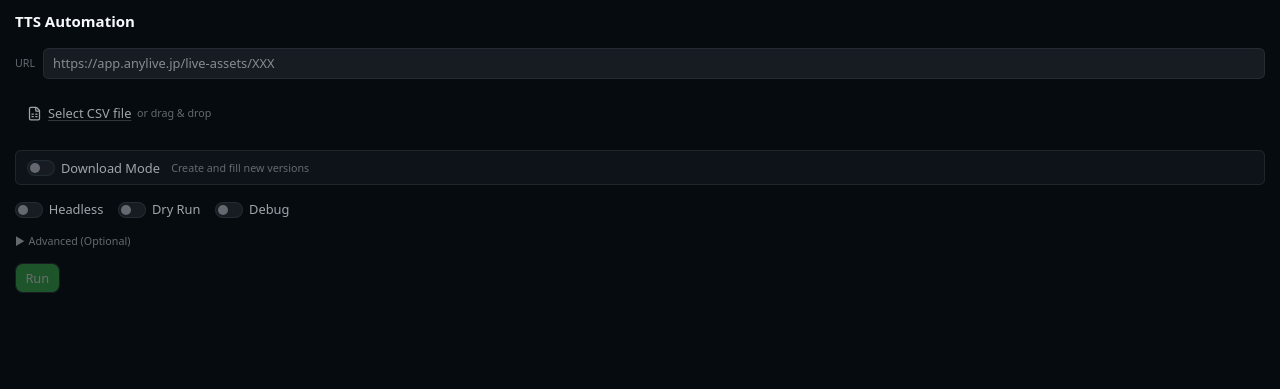
it: TTSPanel › toggle advanced shows and hides start-version and limit fields
Click the button with test id "toggle-advanced" at (73, 241), box [15,234,130,248]
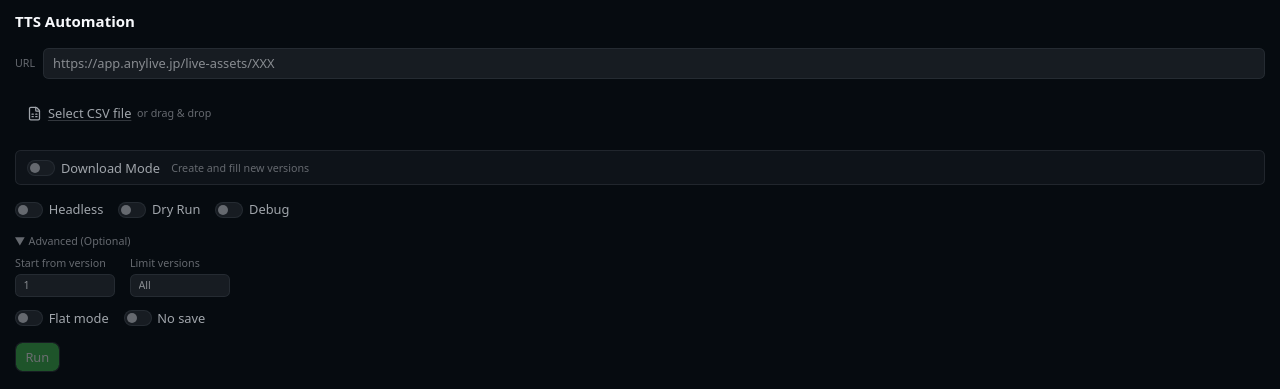
Check: the number field with test id "option-start-version" is shown, box [15,274,115,297]
Check: the number field with test id "option-limit" is shown, box [130,274,230,297]
Click the button with test id "toggle-advanced" at (73, 241), box [15,234,130,248]
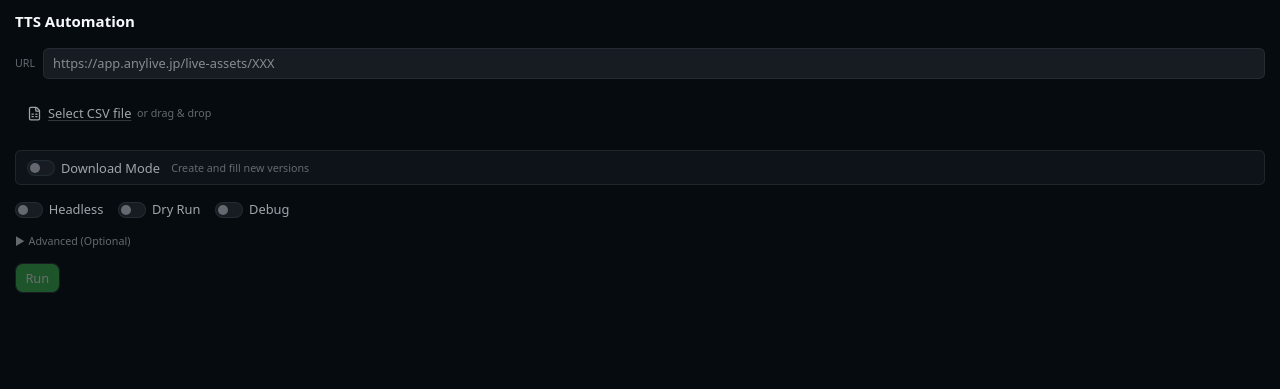
Check: the number field with test id "option-start-version" is gone
